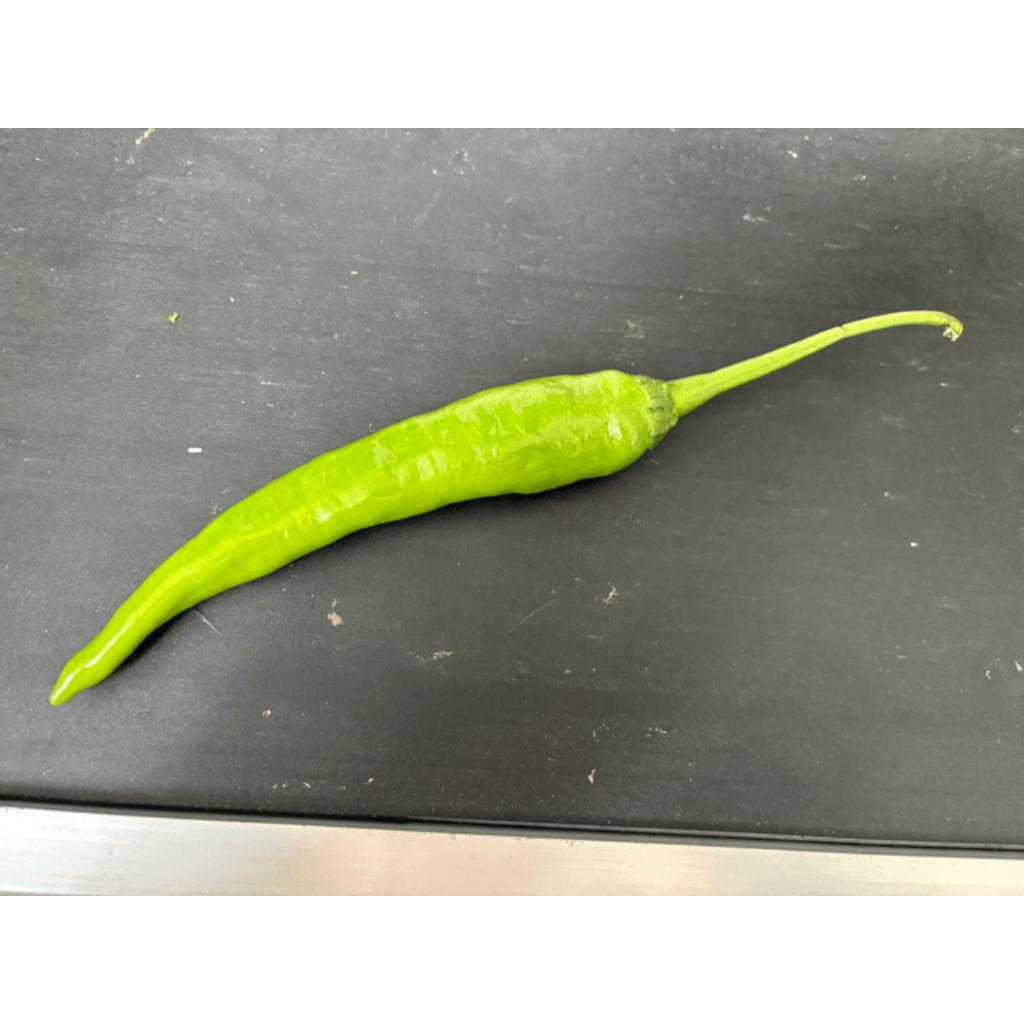chili: (46, 366, 682, 715)
